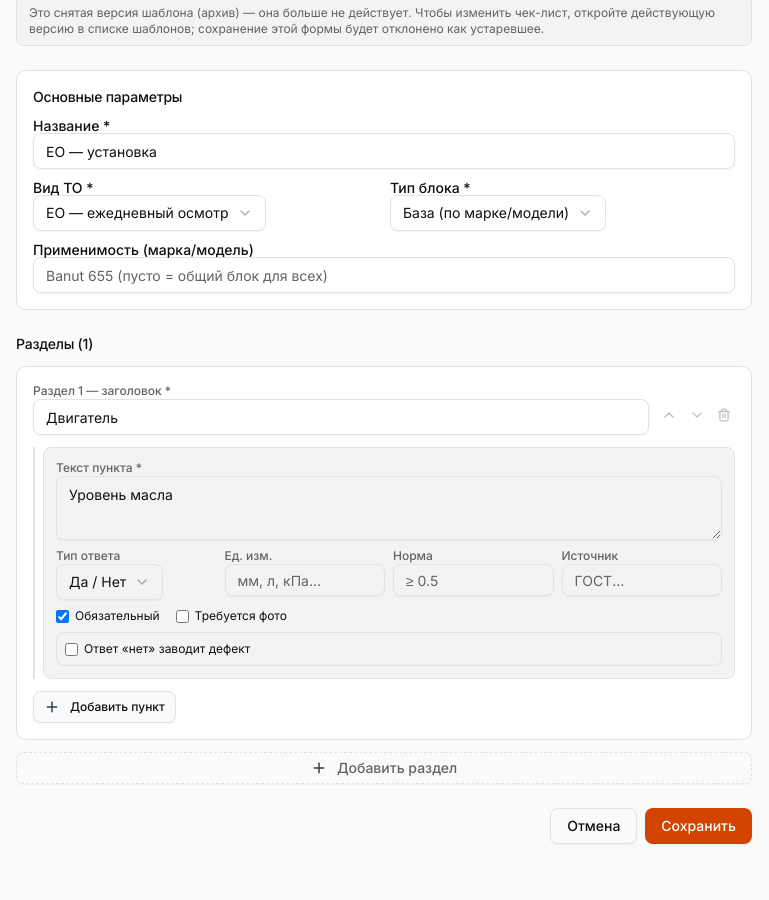
редактор шаблона: защита от одновременной правки (F-R123-2) › шаблон уже заменён другим администратором → PUT не уходит, есть объяснение
(page scrolled)
Click the button "Сохранить" at (699, 826), box [645,808,752,844]
(page scrolled)
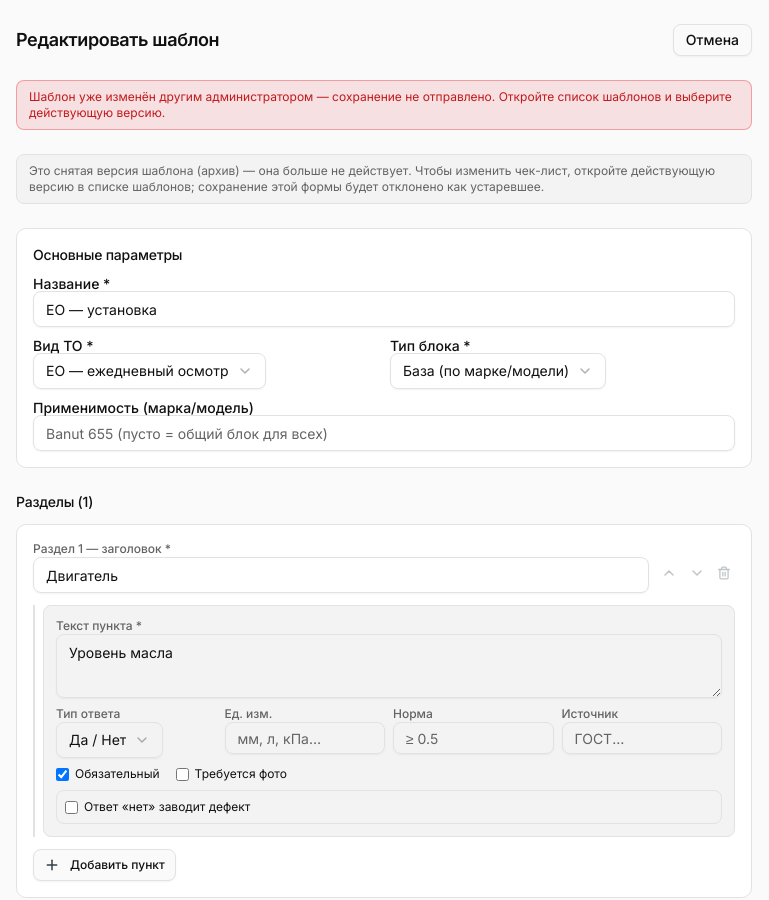
Now the 1st message shows "Шаблон уже изменён другим администратором", box [29,89,732,120]
